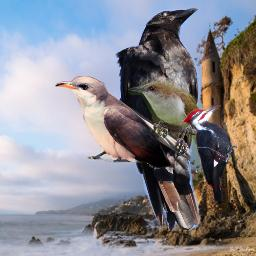Crow: (115, 5, 201, 231)
Cuckoo: (55, 76, 174, 169), (128, 82, 219, 179)
Woodpecker: (182, 105, 237, 204)
